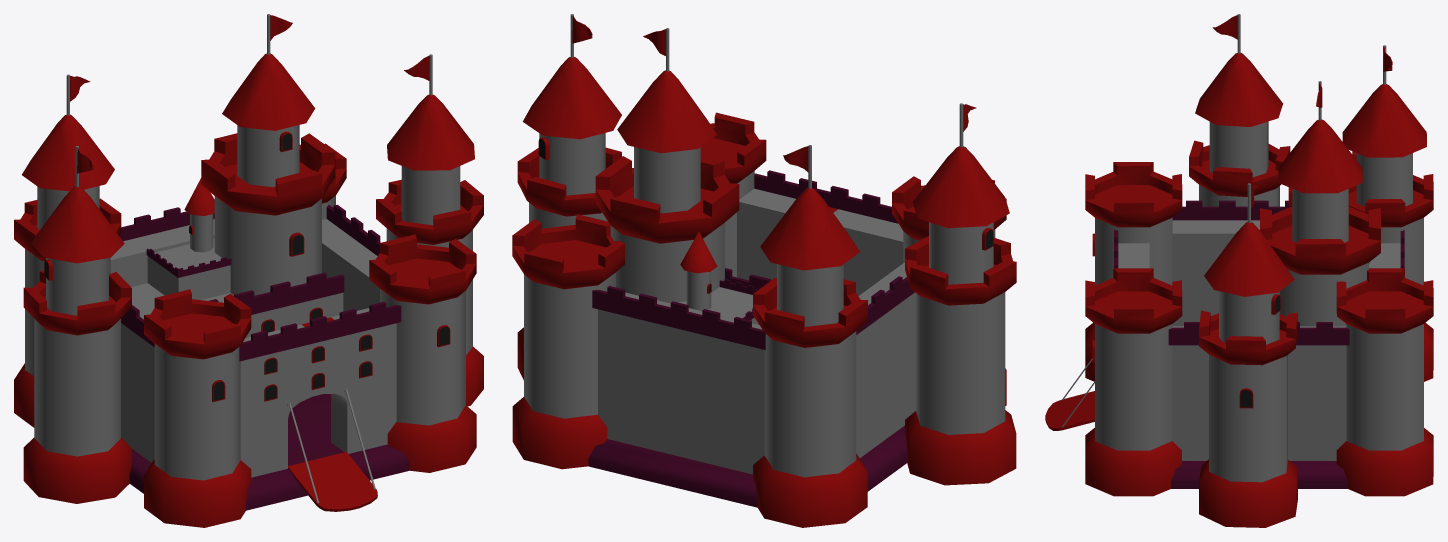
Rendered from Evil_Castle_Upgrade2_Stage1.fbx.
The picture shows the model from 3 angles, left to right: view 1: azimuth 30°, elevation 25°; view 2: azimuth 150°, elevation 25°; view 3: azimuth 270°, elevation 25°; orthographic projection. The views are drawn at different scales.
Visible parts, largest first — view 1: Evil_Castle_Upgrade2_Stage_1; view 2: Evil_Castle_Upgrade2_Stage_1; view 3: Evil_Castle_Upgrade2_Stage_1.
Boxes of the visible parts, box(x1,y1,x2,y2) form: Evil_Castle_Upgrade2_Stage_1: box(14, 14, 483, 527); Evil_Castle_Upgrade2_Stage_1: box(512, 14, 1016, 527); Evil_Castle_Upgrade2_Stage_1: box(1045, 14, 1433, 527).
Bounding box in the file's own units: 1190 × 966 × 927.
1 material, 1 textured.
